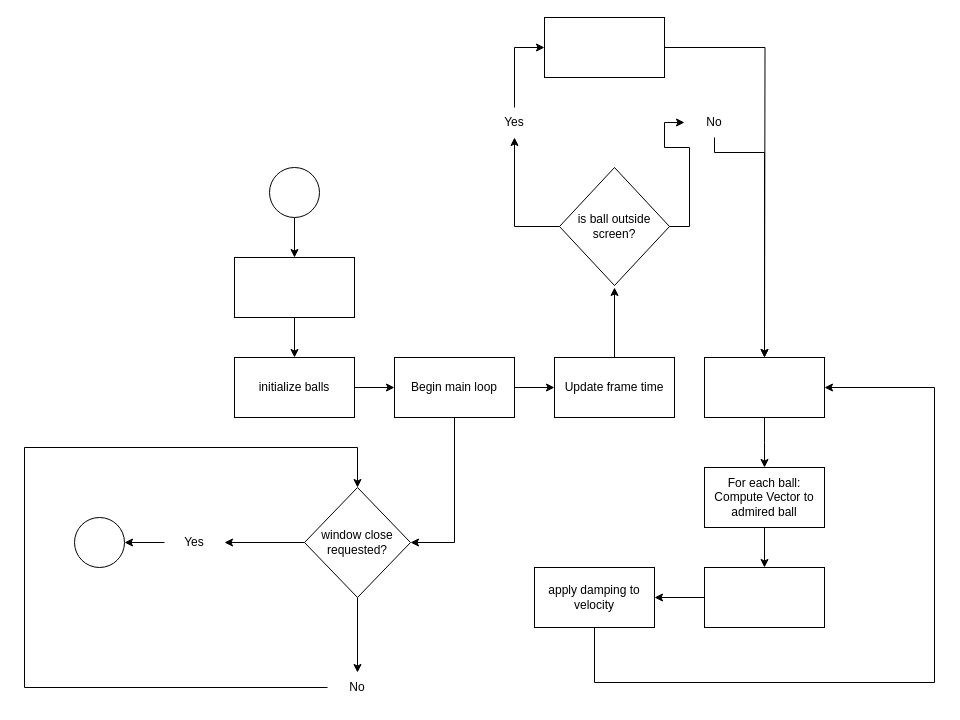
Image size: 960x720. Some labels were removed from this diagram. The box of each missing label's shape, as (x1, y1, x2, y2) in pixels:
apply follow force toward admired ball: (704, 566, 824, 628)
Load window and background: (234, 256, 354, 318)
snap to boundary and invert velocity: (544, 16, 664, 78)
Update each ball: (704, 356, 824, 418)
